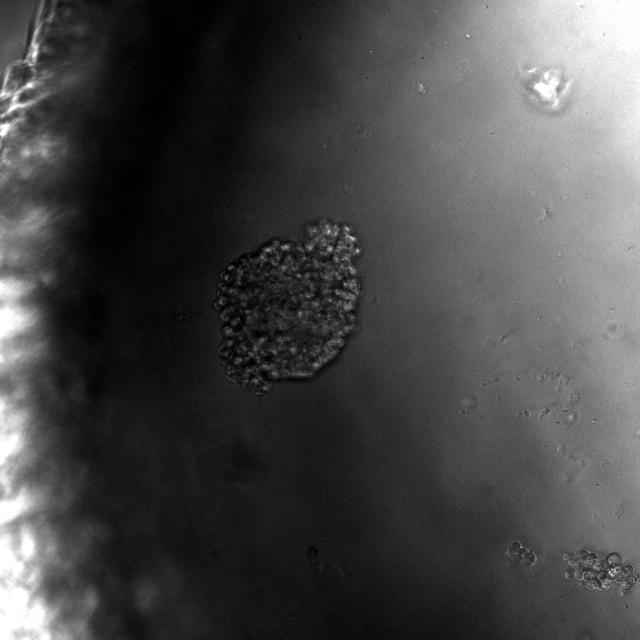organoid: (214, 220, 359, 394), (563, 549, 639, 597), (505, 540, 535, 567)
